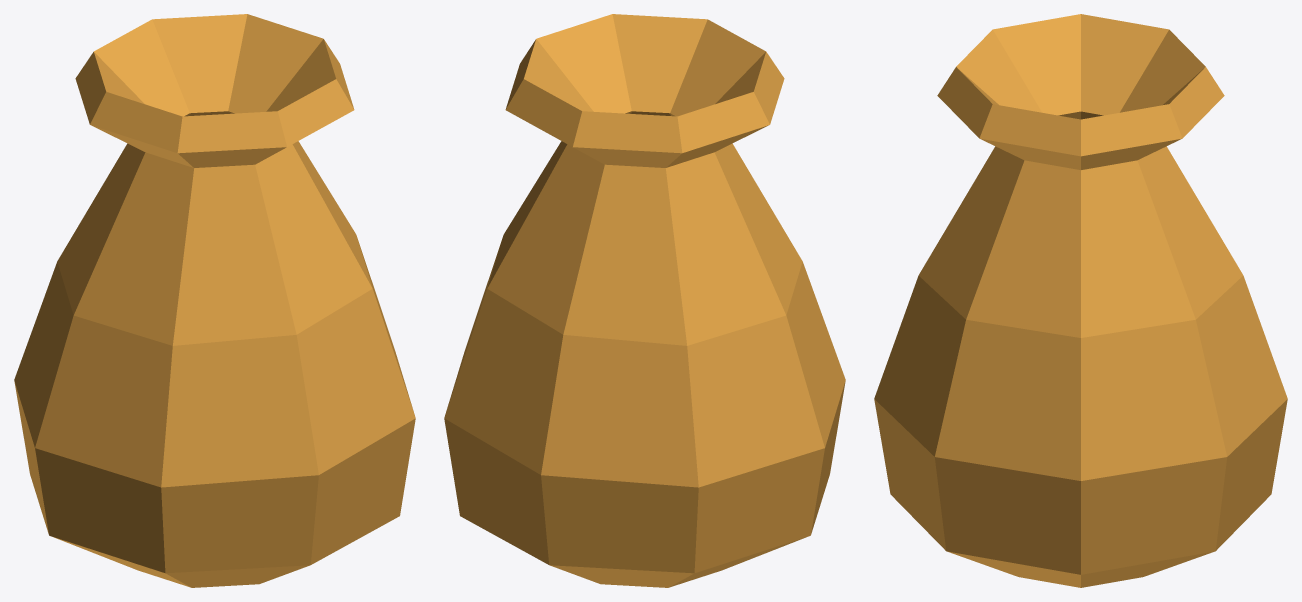
File: egypt-egypt-amphora-simple.glb
The picture shows the model from 3 angles, left to right: view 1: azimuth 30°, elevation 25°; view 2: azimuth 150°, elevation 25°; view 3: azimuth 270°, elevation 25°; orthographic projection.
Visible parts, largest first — view 1: egypt-amphora-simple; view 2: egypt-amphora-simple; view 3: egypt-amphora-simple.
Boxes of the visible parts, x1,y1,x2,y2 form: egypt-amphora-simple: [14, 14, 415, 587]; egypt-amphora-simple: [444, 14, 845, 587]; egypt-amphora-simple: [874, 14, 1287, 587].
Size of the model in its own units: 0.6968 by 0.8996 by 0.697.
